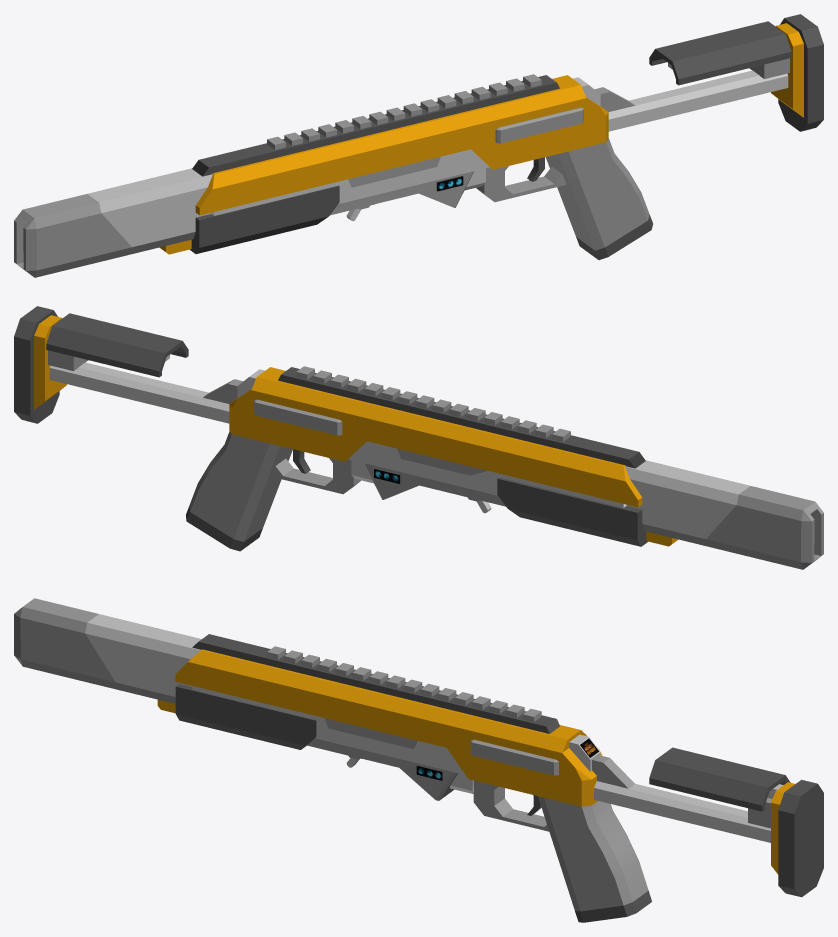
File: SM_DMR01.fbx
3 views of the same model, one above another, from view 1: azimuth 30°, elevation 25°; view 2: azimuth 150°, elevation 25°; view 3: azimuth 330°, elevation 25° (orthographic).
Visible parts, largest first — view 1: SM_DMR01; view 2: SM_DMR01; view 3: SM_DMR01.
Part boxes in pixels (x1=…): SM_DMR01: x1=14, y1=14, x2=823, y2=277; SM_DMR01: x1=14, y1=306, x2=823, y2=569; SM_DMR01: x1=14, y1=598, x2=823, y2=922.
Size of the model in its own units: 85.48 by 19.49 by 5.5.
6 materials, 1 textured.
